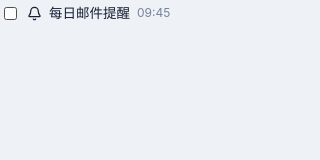
Test: FailureNotificationToggle › saves enabled and disabled preferences without accepting an account or recipient
Click the checkbox labelled "每日邮件提醒 09:45": (10, 14) [4,7,17,20]
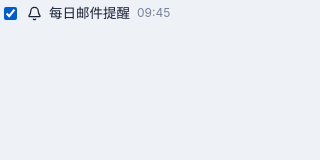
Expected: the checkbox labelled "每日邮件提醒 09:45" is checked
Click the checkbox labelled "每日邮件提醒 09:45": (10, 14) [4,7,17,20]
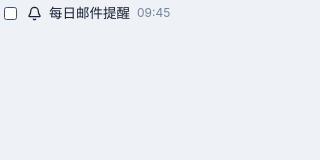
Expected: the checkbox labelled "每日邮件提醒 09:45" is not checked, [4,7,17,20]
